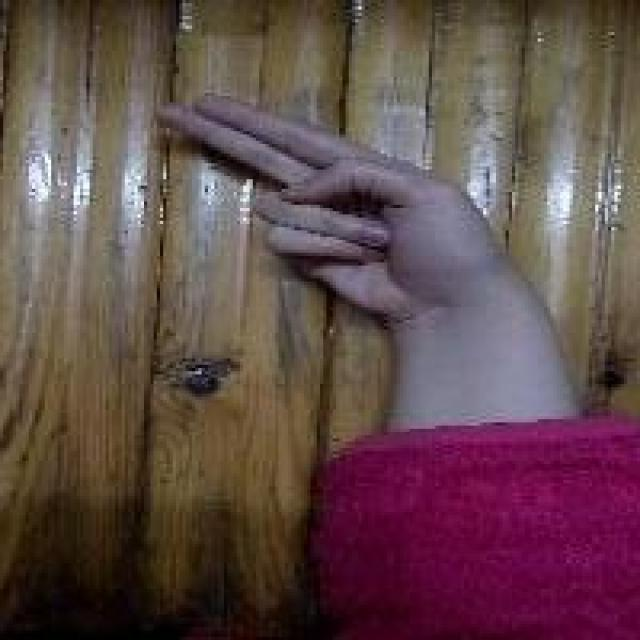H: (149, 90, 507, 326)
